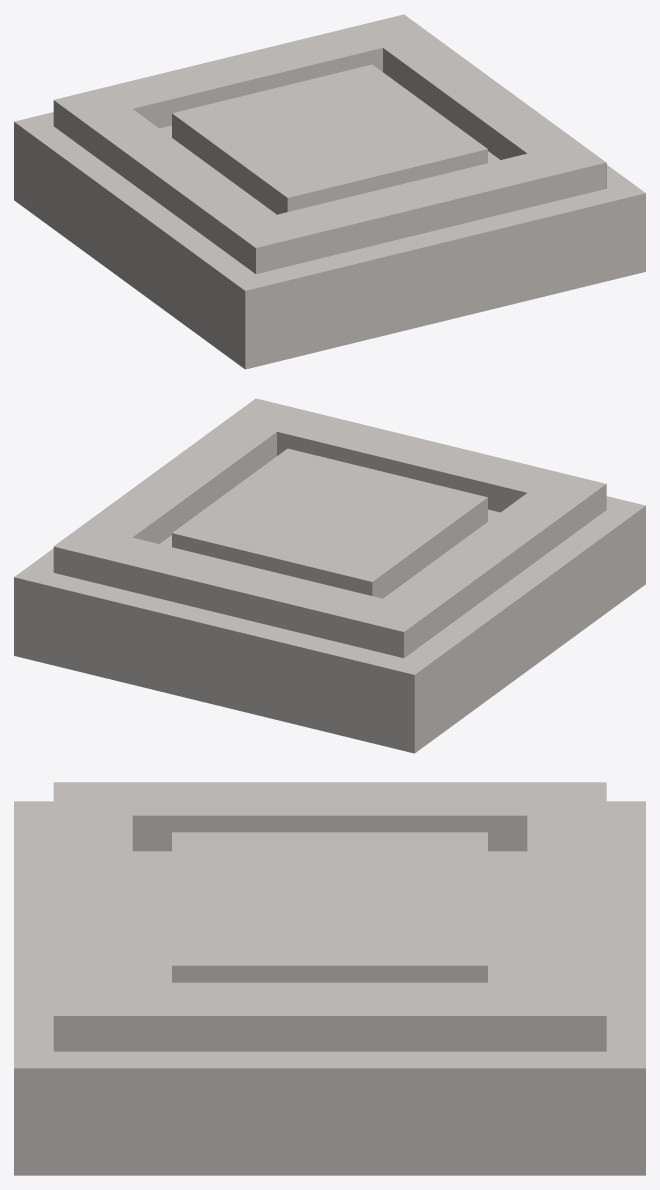
File: man-v1-white.gltf
3 renders of one model, top to bottom at view 1: azimuth 30°, elevation 25°; view 2: azimuth 150°, elevation 25°; view 3: azimuth 270°, elevation 25°, orthographic. The views are drawn at different scales.
Visible parts, largest first — view 1: Untitled; view 2: Untitled; view 3: Untitled.
Boxes of the visible parts, x1=… form: Untitled: x1=14, y1=14, x2=645, y2=369; Untitled: x1=14, y1=398, x2=645, y2=753; Untitled: x1=14, y1=782, x2=645, y2=1175.
Bounding box in the file's own units: 1.6 × 0.4 × 1.6.
1 material, 1 textured.
